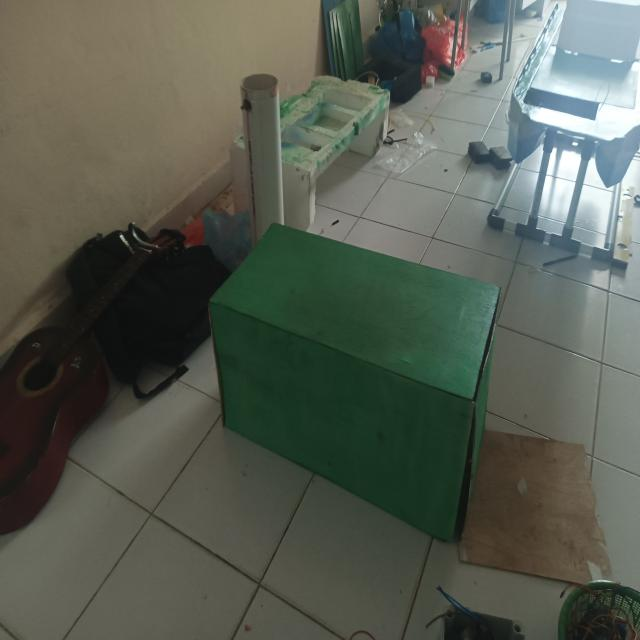green_box: (206, 210, 511, 584)
